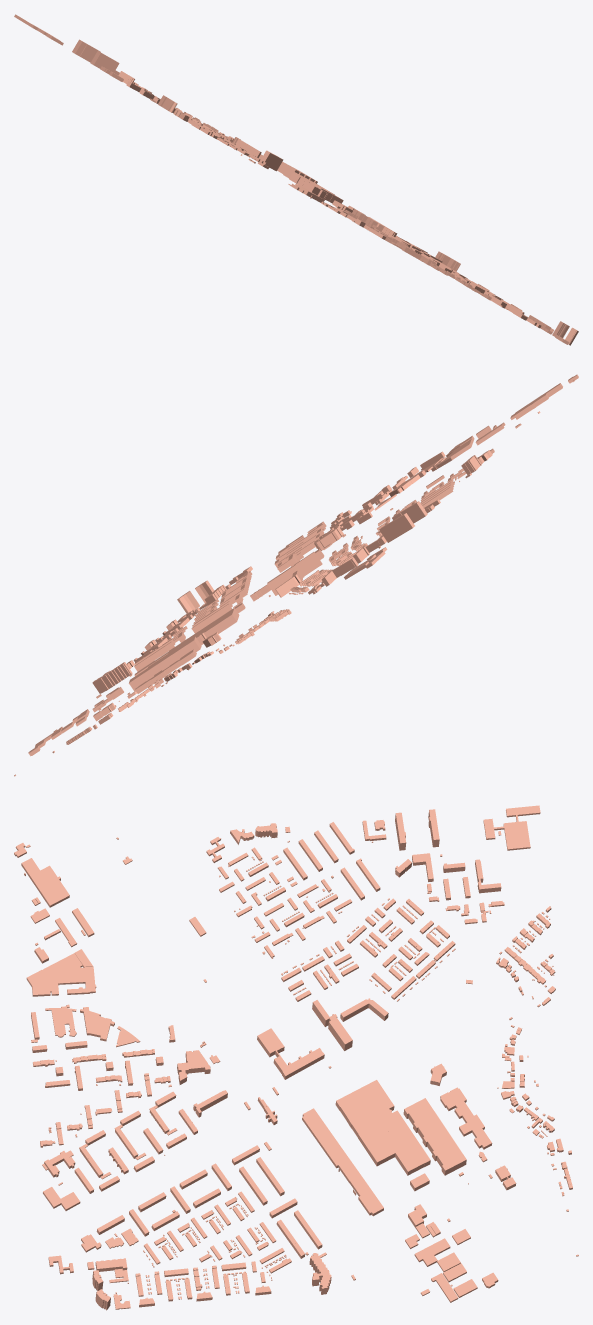
3 views of the same model, one above another, from view 1: azimuth 30°, elevation 25°; view 2: azimuth 150°, elevation 25°; view 3: azimuth 270°, elevation 25° (orthographic). The views are drawn at different scales.
Bounding box in the file's own units: 1079 × 790 × 1277.
